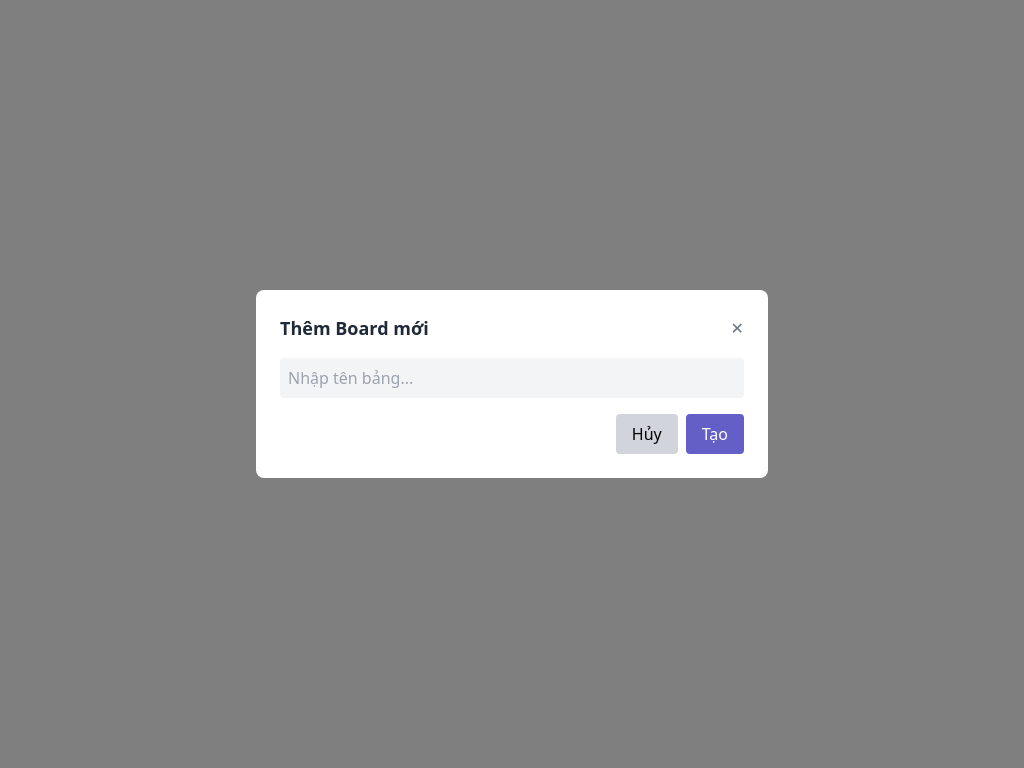
Test: BoardModal › hiện lỗi khi submit rỗng
Click the button with test id "submit-board-btn": (715, 434) top-left (686, 414), bottom-right (744, 454)
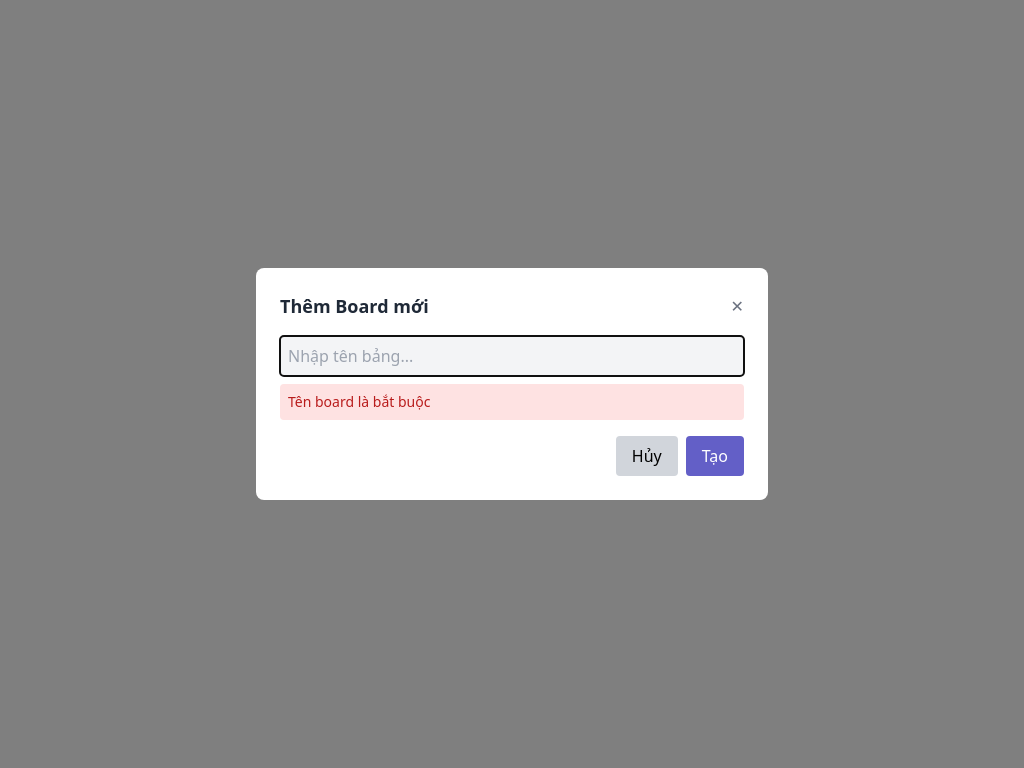
Check: the text "Tên board là bắt buộc" is shown, box top-left (288, 392), bottom-right (430, 411)
